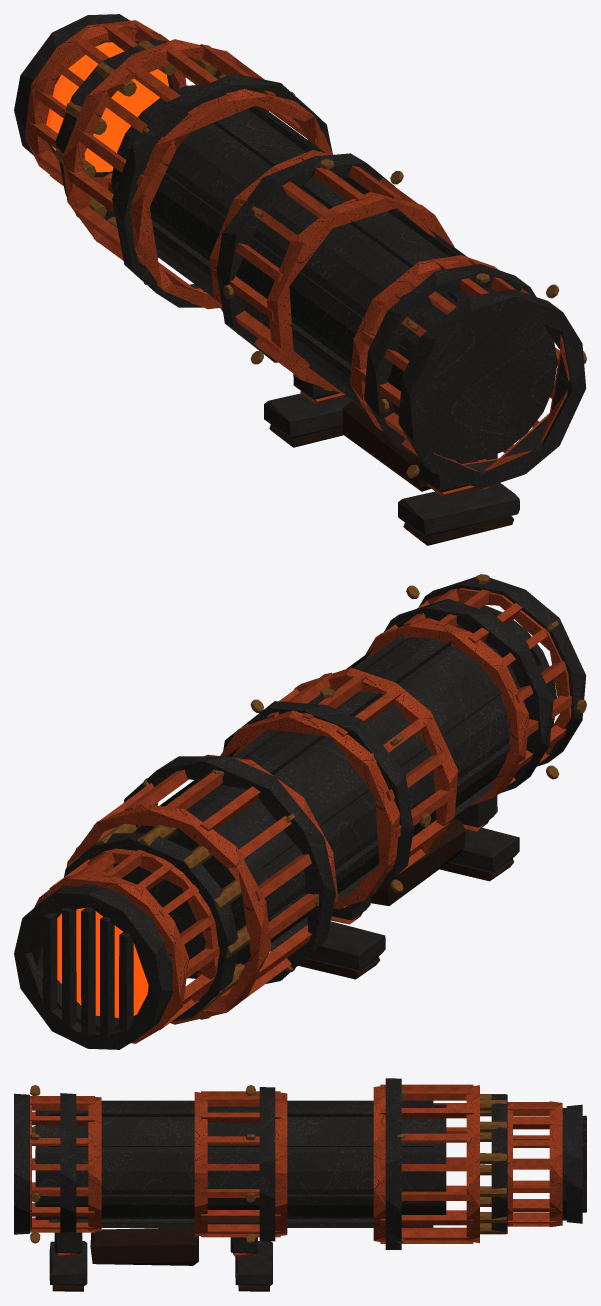
The model's file is kiln-focus-stowed-lod1.glb.
The picture shows the model from 3 angles, top to bottom: view 1: azimuth 30°, elevation 25°; view 2: azimuth 150°, elevation 25°; view 3: azimuth 270°, elevation 25°; orthographic projection. The views are drawn at different scales.
Parts seen in each view (by area): view 1: Forged barrel core, Machined barrel rim, Ceramic vent header, Machined barrel rim.003, Ceramic vent header.003, Machined barrel rim.001, Machined barrel rim.002, Ceramic vent footer, Backpack mount shoe, Ceramic vent footer.001, Banked ember recessed chamber, Ceramic vent footer.002 (+24 smaller); view 2: Forged barrel core, Muzzle lip, Machined barrel rim.003, Ceramic vent footer, Ceramic vent footer.003, Machined barrel rim.001, Ceramic vent footer.002, Machined barrel rim.004, Machined barrel rim.002, Ceramic vent header.003, Ceramic vent footer.001, Machined barrel rim (+33 smaller); view 3: Forged barrel core, Insulated palm grip, Machined barrel rim.003, Machined barrel rim.002, Machined barrel rim.001, Machined barrel rim, Muzzle lip, Ceramic vent footer, Machined barrel rim.004, Ceramic vent header, Ceramic vent header.003, Ceramic vent footer.003 (+44 smaller).
Boxes of the visible parts, x1=… form: Forged barrel core: x1=111, y1=84, x2=557, y2=461; Machined barrel rim: x1=398, y1=289, x2=586, y2=488; Ceramic vent header: x1=130, y1=89, x2=332, y2=309; Machined barrel rim.003: x1=112, y1=73, x2=332, y2=307; Ceramic vent header.003: x1=267, y1=192, x2=454, y2=394; Machined barrel rim.001: x1=364, y1=264, x2=536, y2=454; Machined barrel rim.002: x1=216, y1=153, x2=394, y2=362; Ceramic vent footer: x1=62, y1=39, x2=268, y2=257; Backpack mount shoe: x1=398, y1=483, x2=519, y2=537; Ceramic vent footer.001: x1=24, y1=20, x2=186, y2=189; Banked ember recessed chamber: x1=46, y1=42, x2=168, y2=172; Ceramic vent footer.002: x1=350, y1=255, x2=498, y2=430; Forged barrel core: x1=113, y1=602, x2=556, y2=978; Muzzle lip: x1=14, y1=886, x2=172, y2=1049; Machined barrel rim.003: x1=123, y1=756, x2=335, y2=983; Ceramic vent footer: x1=67, y1=803, x2=271, y2=1024; Ceramic vent footer.003: x1=220, y1=710, x2=399, y2=908; Machined barrel rim.001: x1=384, y1=598, x2=553, y2=793; Ceramic vent footer.002: x1=365, y1=618, x2=529, y2=805; Machined barrel rim.004: x1=64, y1=833, x2=238, y2=1021; Machined barrel rim.002: x1=223, y1=701, x2=413, y2=910; Ceramic vent header.003: x1=294, y1=667, x2=458, y2=859; Ceramic vent footer.001: x1=34, y1=869, x2=188, y2=1043; Machined barrel rim: x1=419, y1=577, x2=586, y2=766; Forged barrel core: x1=35, y1=1104, x2=446, y2=1223; Insulated palm grip: x1=90, y1=1228, x2=198, y2=1265; Machined barrel rim.003: x1=385, y1=1078, x2=401, y2=1249; Machined barrel rim.002: x1=259, y1=1087, x2=275, y2=1241; Machined barrel rim.001: x1=60, y1=1093, x2=76, y2=1235; Machined barrel rim: x1=14, y1=1093, x2=29, y2=1234; Muzzle lip: x1=566, y1=1104, x2=582, y2=1223; Ceramic vent footer: x1=466, y1=1085, x2=479, y2=1243; Machined barrel rim.004: x1=491, y1=1094, x2=507, y2=1233; Ceramic vent header: x1=373, y1=1085, x2=385, y2=1242; Ceramic vent header.003: x1=194, y1=1092, x2=207, y2=1236; Ceramic vent footer.003: x1=274, y1=1092, x2=287, y2=1235.
Bounding box in the file's own units: 0.2566 × 0.3178 × 0.8635.
5 materials, 4 textured.
